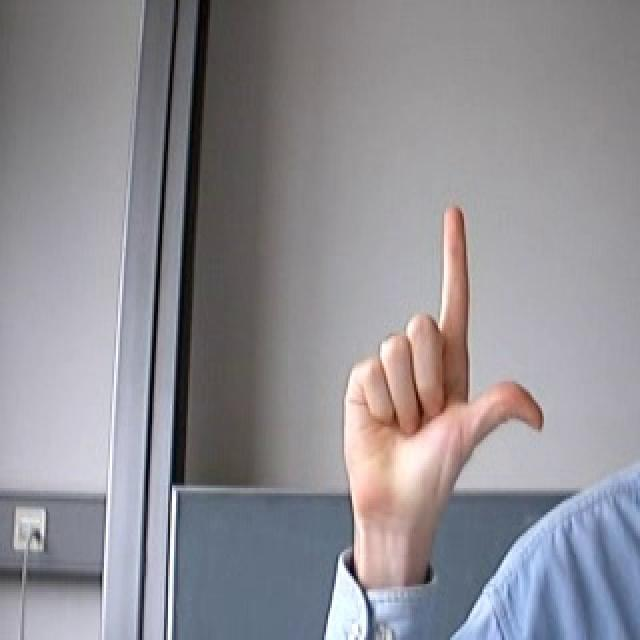L: (293, 191, 563, 553)
